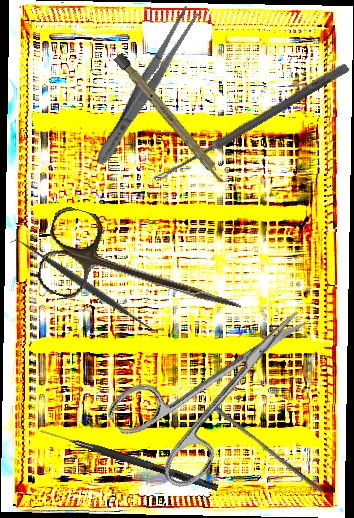Dressing Forceps: (90, 4, 202, 169)
Hook Surgical: (38, 428, 220, 491)
Iris Scissors: (102, 274, 341, 500), (33, 203, 255, 345)
Pusher: (207, 402, 327, 494)
Scalpel Handle: (113, 52, 229, 187)
Spatula Surgical: (8, 228, 166, 343)
Surgical Spoon: (152, 61, 350, 186)
